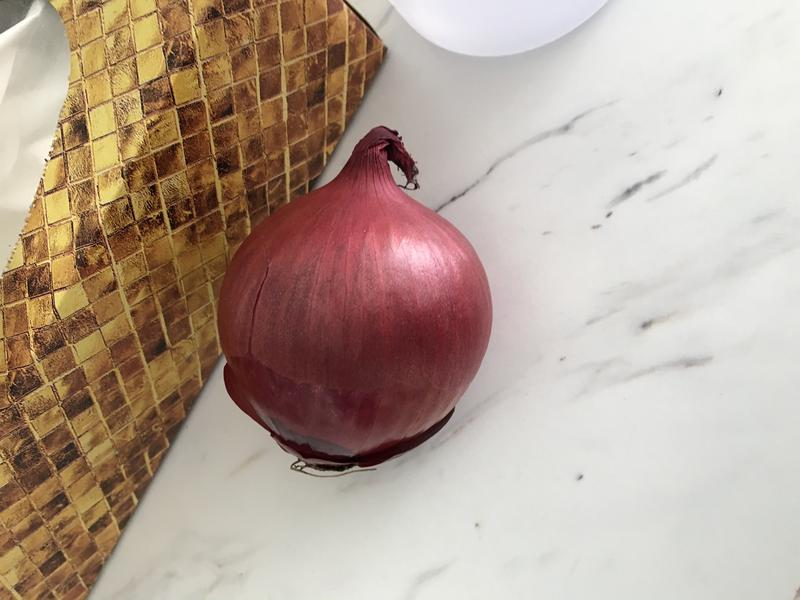purple_onion: (208, 119, 508, 483)
